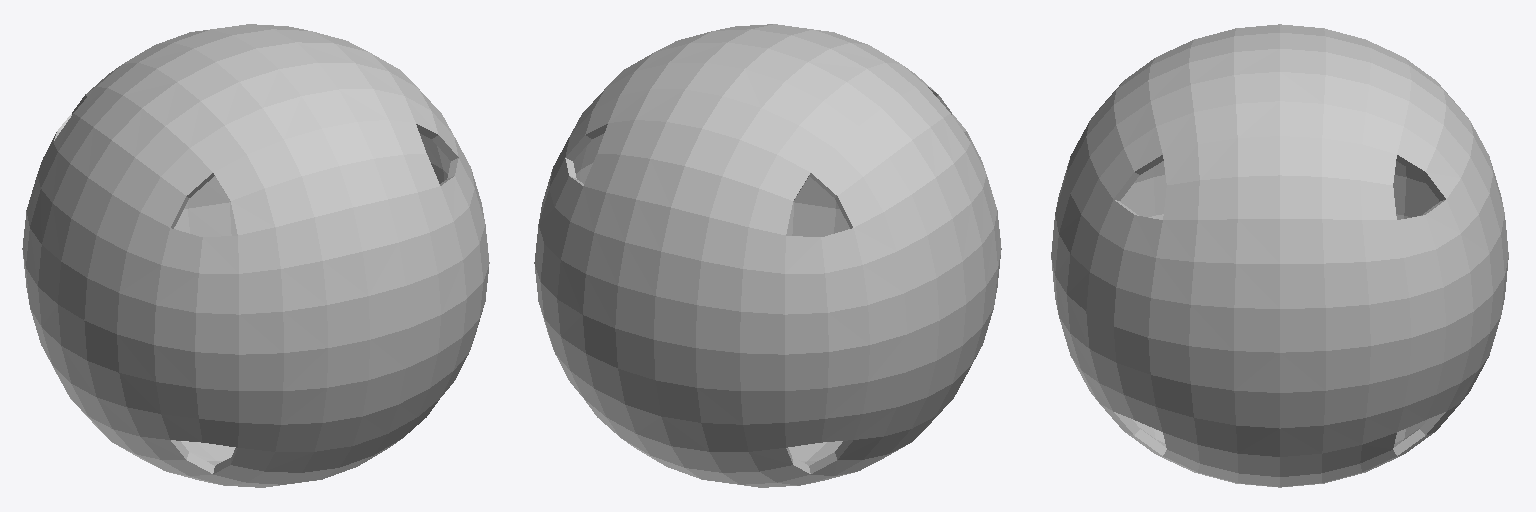
Rendered from Lightball.obj.
3 renders of one model, left to right at view 1: azimuth 30°, elevation 25°; view 2: azimuth 150°, elevation 25°; view 3: azimuth 270°, elevation 25°, orthographic.
Visible parts, largest first — view 1: Cube.004_Cube.006; view 2: Cube.004_Cube.006; view 3: Cube.004_Cube.006.
Boxes of the visible parts, box(x1,y1,x2,y2) form: Cube.004_Cube.006: box(22, 24, 489, 487); Cube.004_Cube.006: box(534, 24, 1001, 487); Cube.004_Cube.006: box(1051, 24, 1508, 487).
Size of the model in its own units: 204 by 204 by 204.